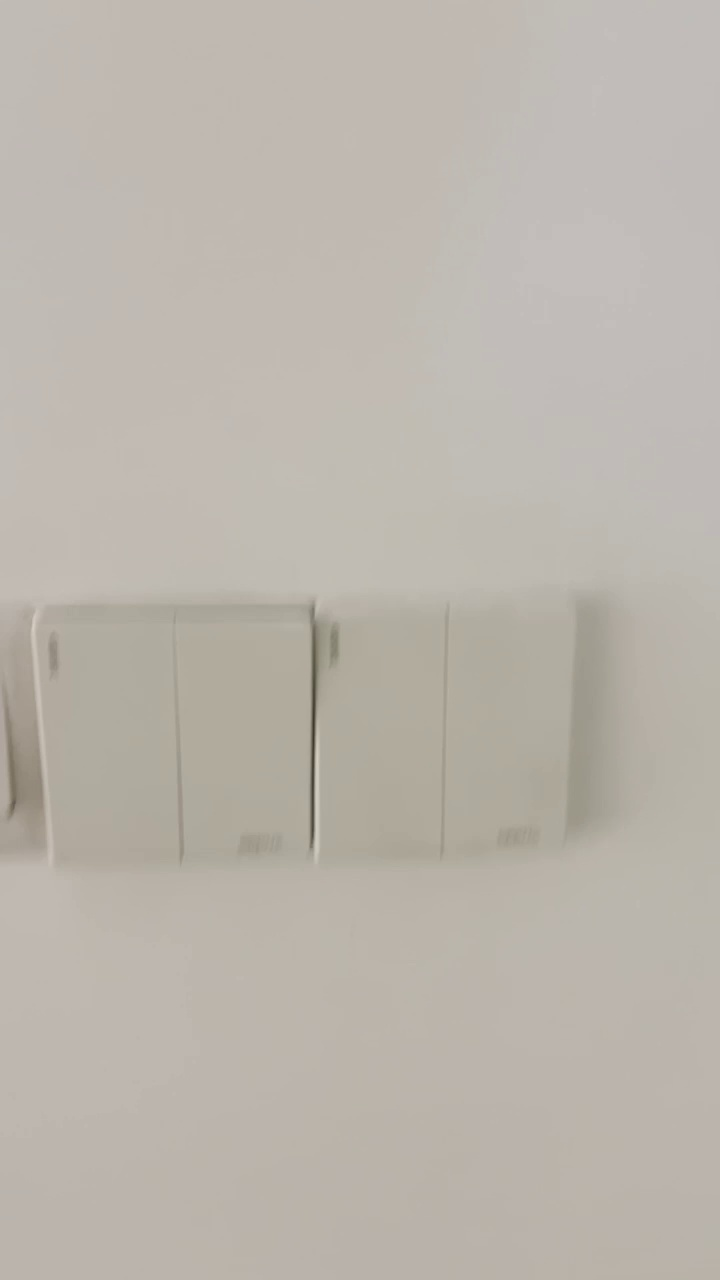button1: (183, 622, 310, 856), (320, 619, 440, 857), (43, 636, 171, 857), (452, 616, 565, 847)
